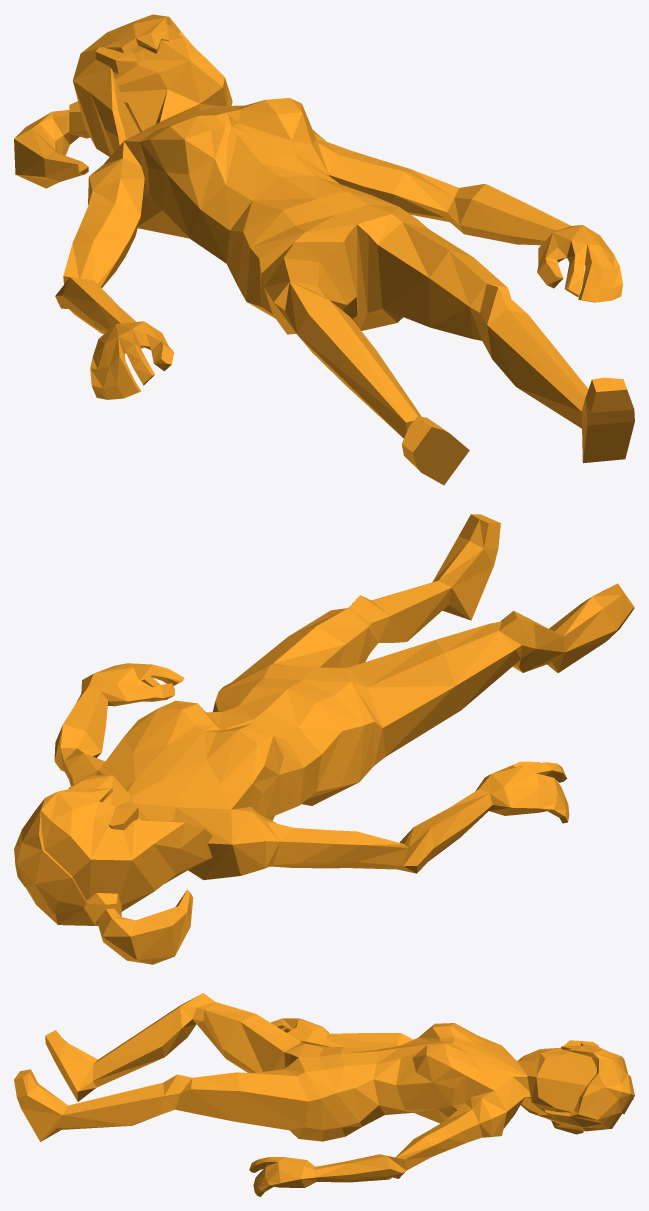
Rendered from SM_Pawn_Dead_Female_01.fbx.
The picture shows the model from 3 angles, top to bottom: view 1: azimuth 30°, elevation 25°; view 2: azimuth 150°, elevation 25°; view 3: azimuth 270°, elevation 25°; orthographic projection. The views are drawn at different scales.
Visible parts, largest first — view 1: SM_Pawn_Dead_Female_01; view 2: SM_Pawn_Dead_Female_01; view 3: SM_Pawn_Dead_Female_01.
Part boxes in pixels (<box>): SM_Pawn_Dead_Female_01: <box>14,14,634,485</box>; SM_Pawn_Dead_Female_01: <box>14,514,634,964</box>; SM_Pawn_Dead_Female_01: <box>14,993,634,1196</box>.
Size of the model in its own units: 113 by 33.15 by 186.
